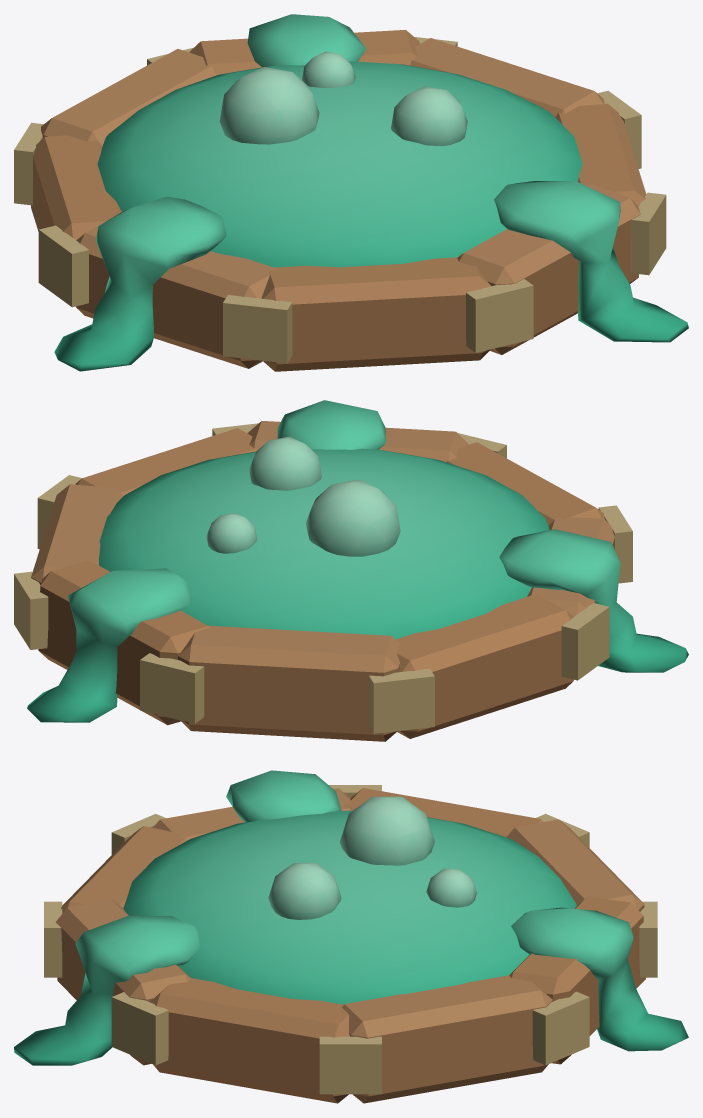
File: pvp_goo_trap_2.fbx
The picture shows the model from 3 angles, top to bottom: view 1: azimuth 30°, elevation 25°; view 2: azimuth 150°, elevation 25°; view 3: azimuth 270°, elevation 25°; orthographic projection. The views are drawn at different scales.
Parts seen in each view (by area): view 1: pvp_goo_trap_2; view 2: pvp_goo_trap_2; view 3: pvp_goo_trap_2.
Part boxes in pixels (<box>): pvp_goo_trap_2: <box>14,14,688,371</box>; pvp_goo_trap_2: <box>14,400,688,741</box>; pvp_goo_trap_2: <box>14,770,688,1103</box>.
Bounding box in the file's own units: 3.63 × 0.9842 × 3.69.
